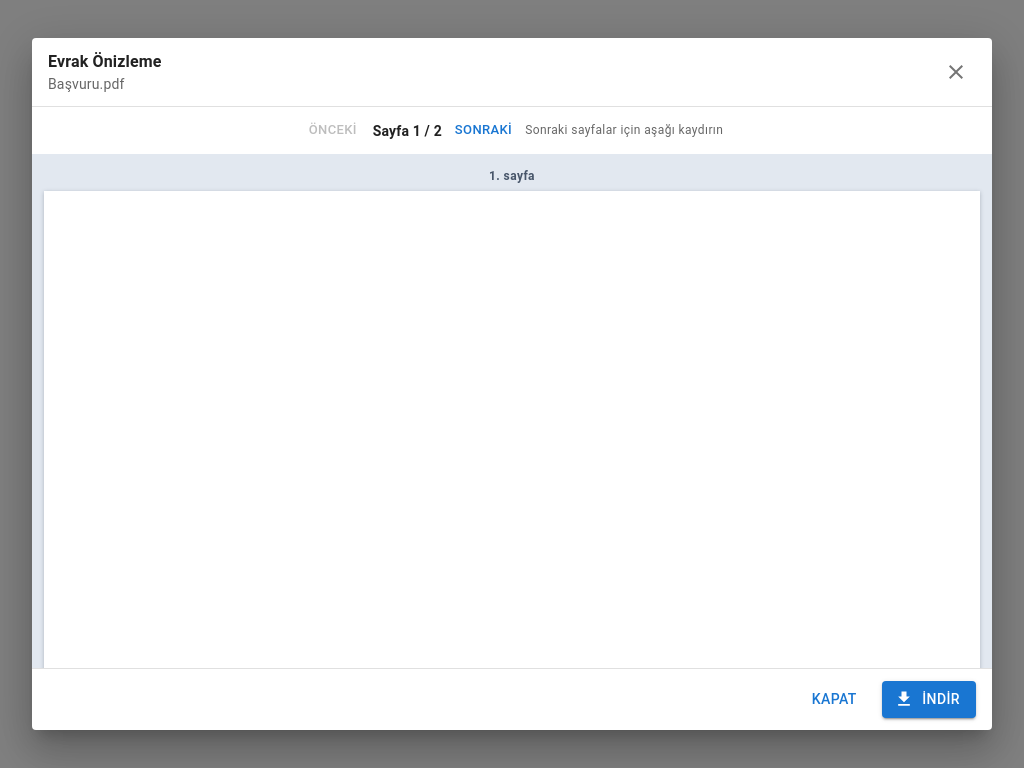
Test: PDF yetkili yükleyiciden alınır, canvas sayfaları gezinilir ve kapatılınca kaynaklar bırakılır
The width and height of the screenshot is (1024, 768).
Expected: the text "Sayfa 1 / 2" is shown, [373,121,442,141]
Click the button "Sonraki" at (483, 131), box [450,115,517,146]
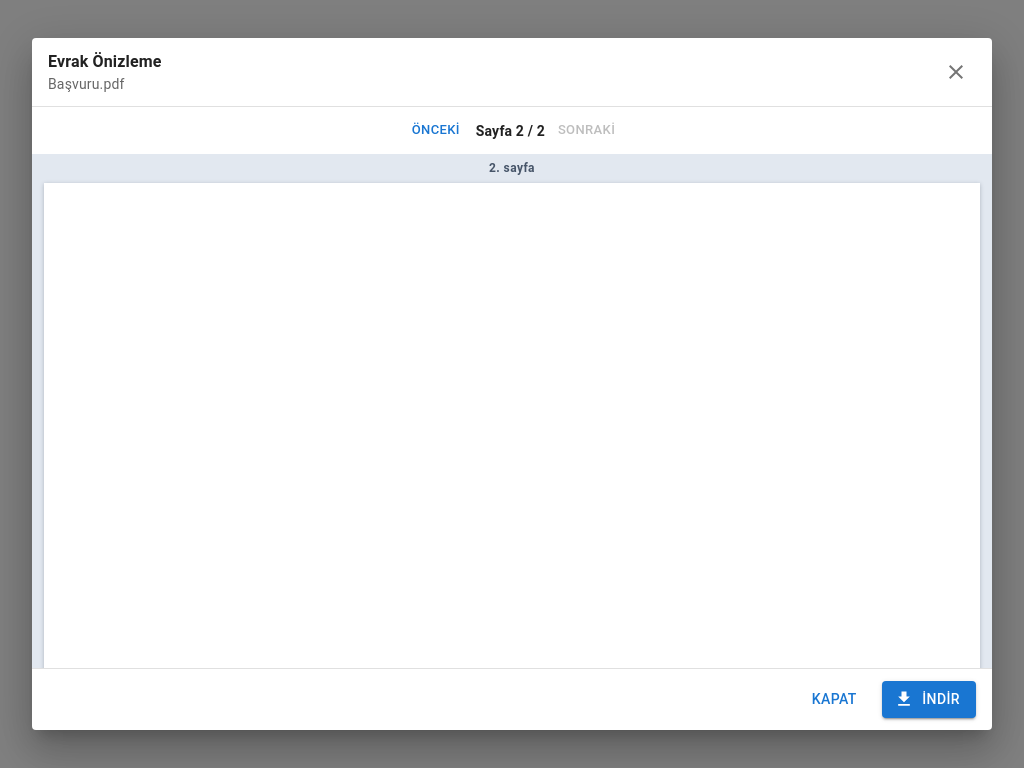
Now the text "Sayfa 2 / 2" is shown, box [476,121,545,141]
Now the button "Sonraki" is disabled, box [553,115,620,146]
